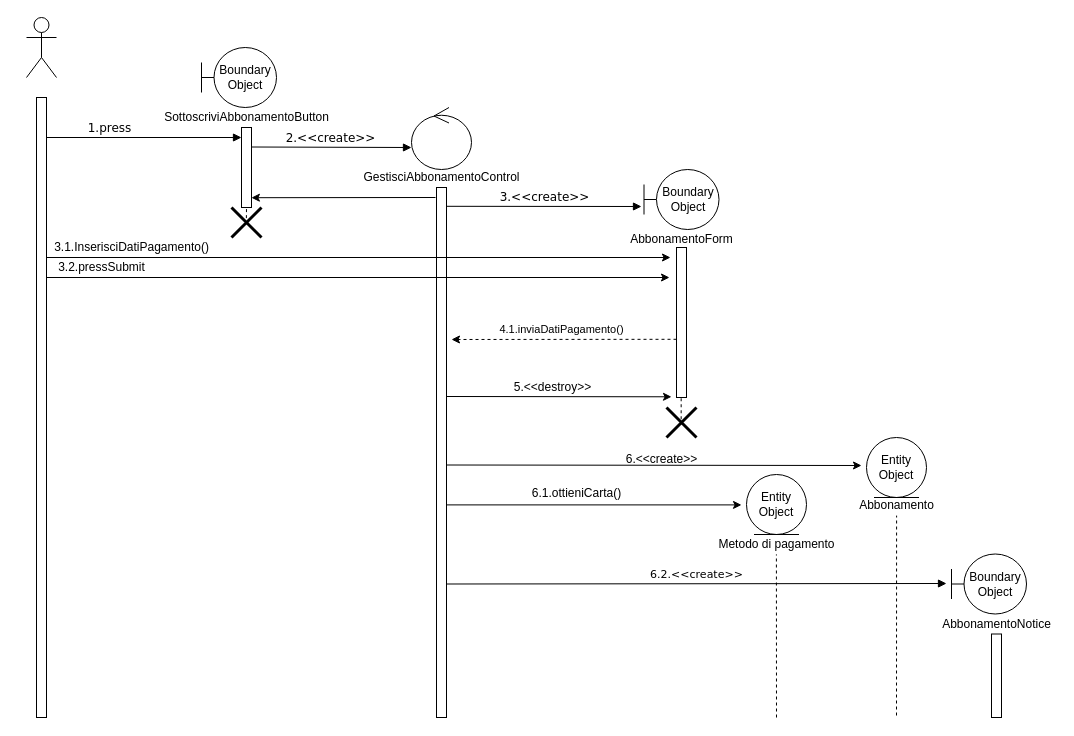
The diagram is 1074 pixels wide and 736 high, and some of its shapes have lost their labels. The centre of each missing label's shape, as x and y in pixels:
Control Object: point (441, 138)
Fornitore: point (41, 47)
